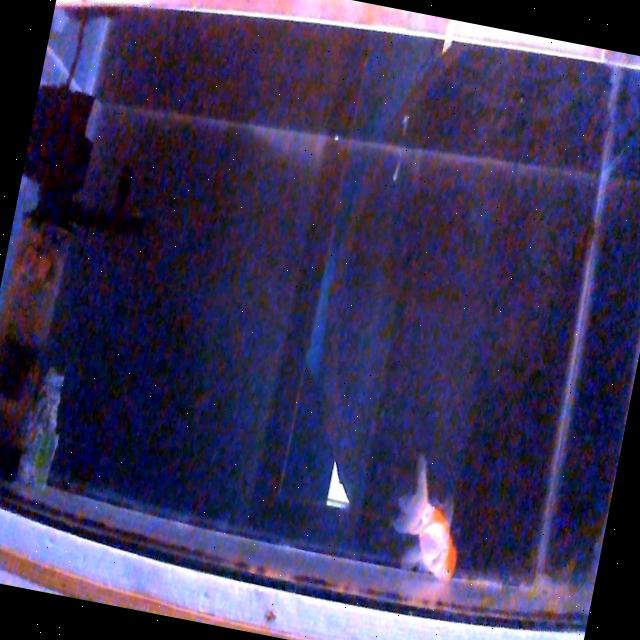fish: (384, 449, 476, 586)
